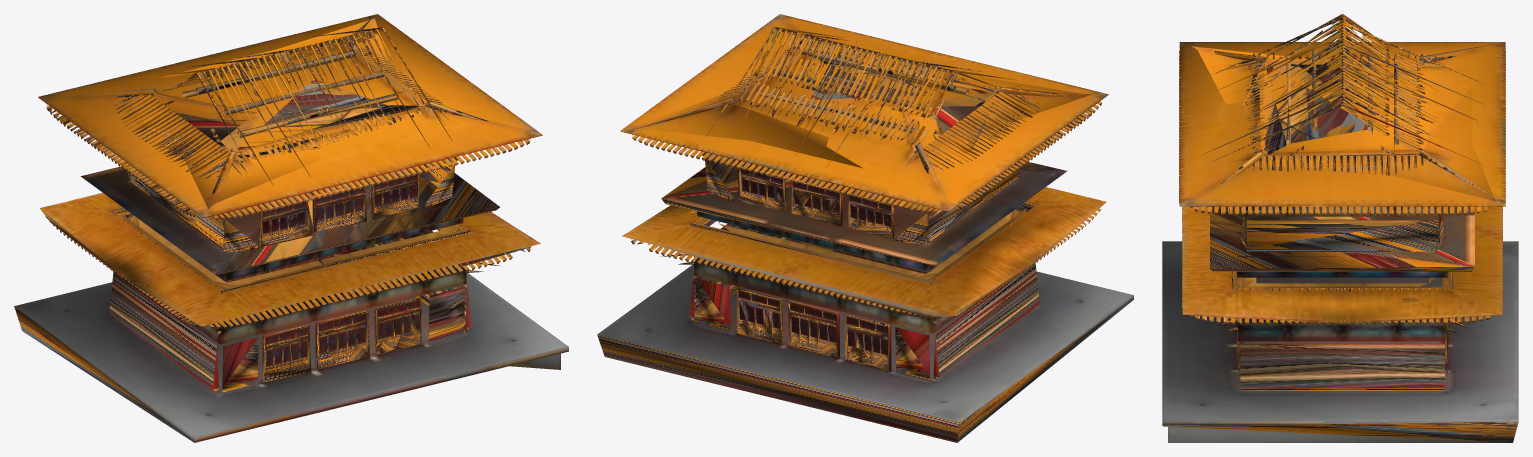
File: bq_drum_tower.mid.glb
The picture shows the model from 3 angles, left to right: view 1: azimuth 30°, elevation 25°; view 2: azimuth 150°, elevation 25°; view 3: azimuth 270°, elevation 25°; orthographic projection. The views are drawn at different scales.
Size of the model in its own units: 1.71 by 1.31 by 1.43.
Materials: 1 (1 with a texture image).
